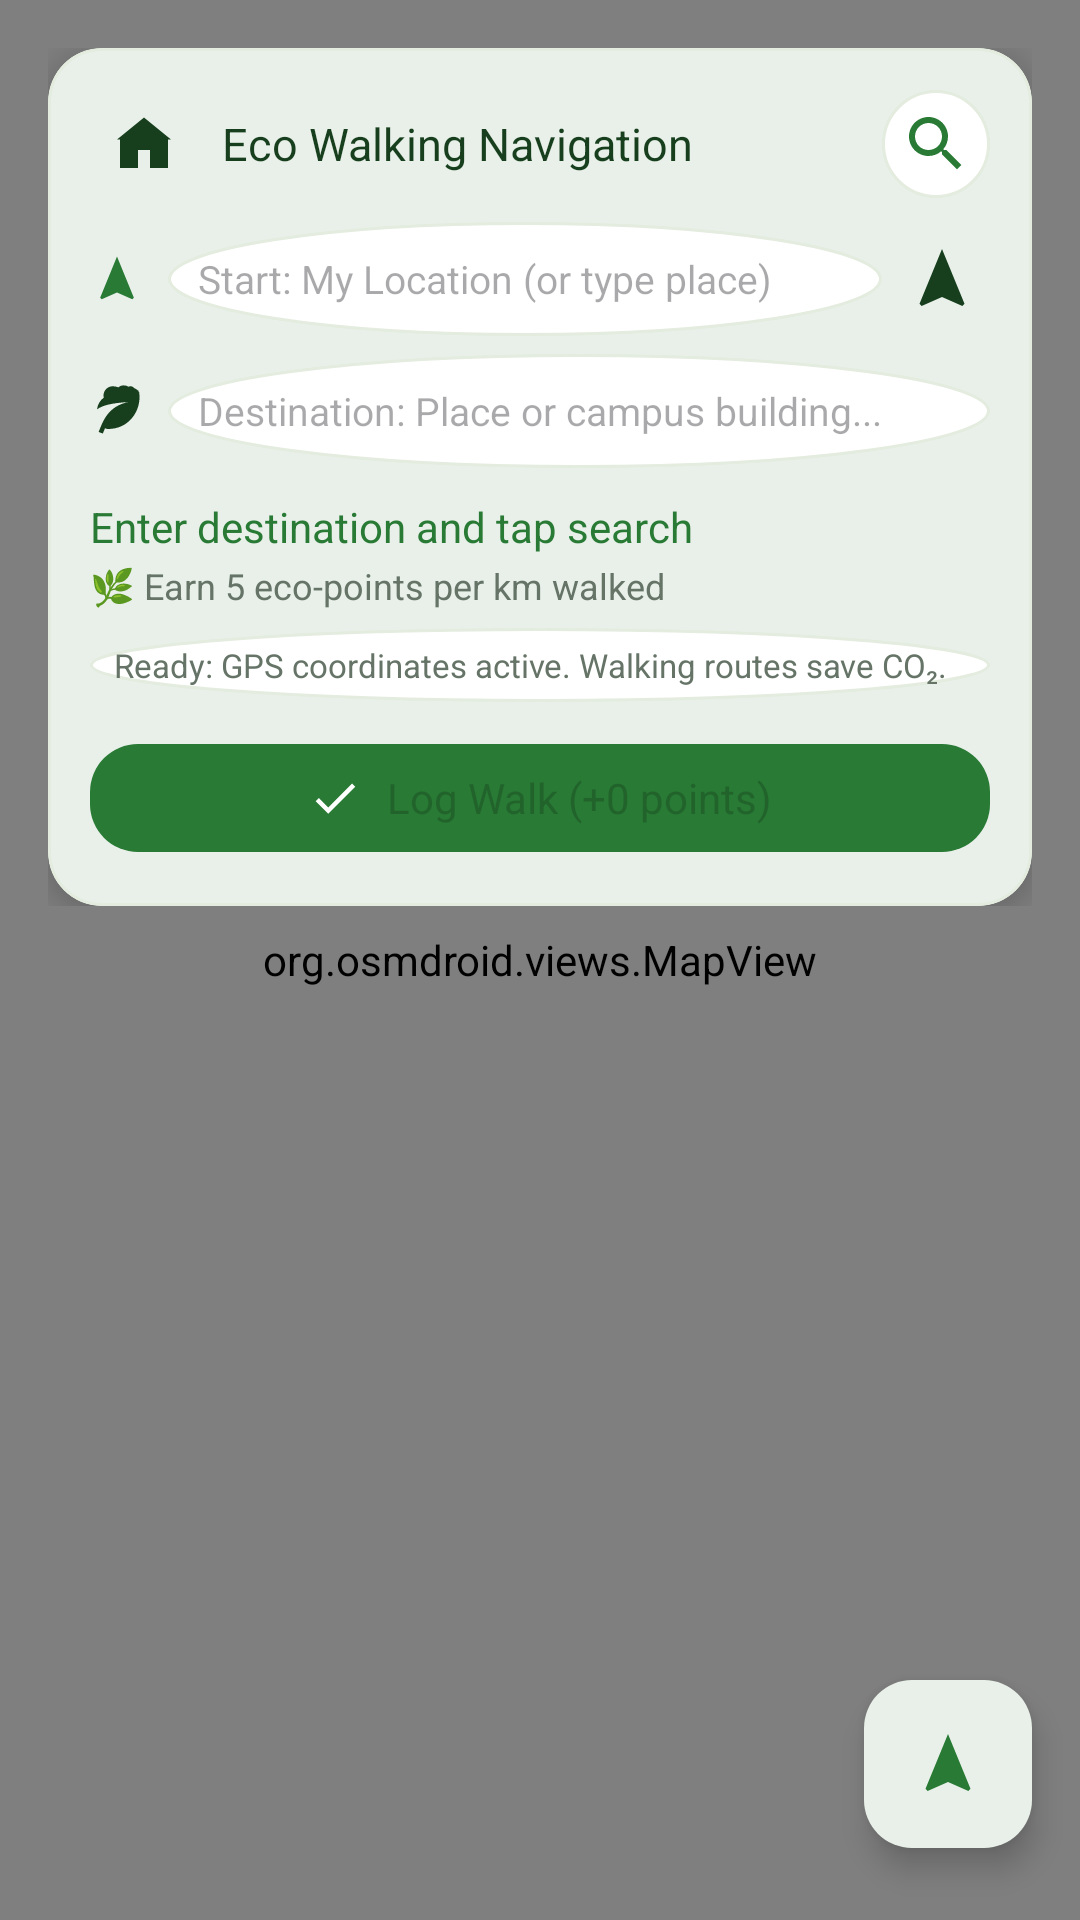

Point at icon controls on the screen. Image size 1080 × 1920, points as point (x, y).
My Location: point (948, 1764)
Source: point (117, 278)
Use My Location: point (942, 277)
